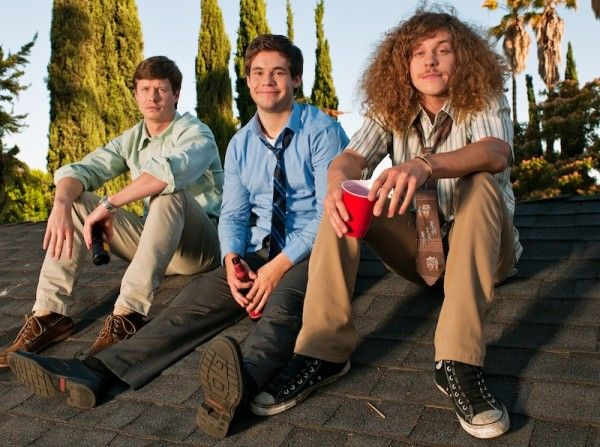people: (350, 5, 523, 133), (235, 32, 323, 134), (112, 44, 202, 138)
